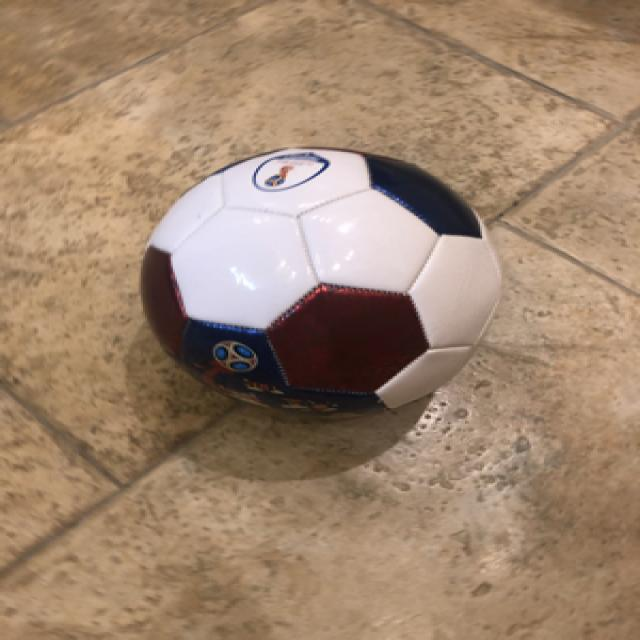soccer_ball: (132, 141, 502, 419)
